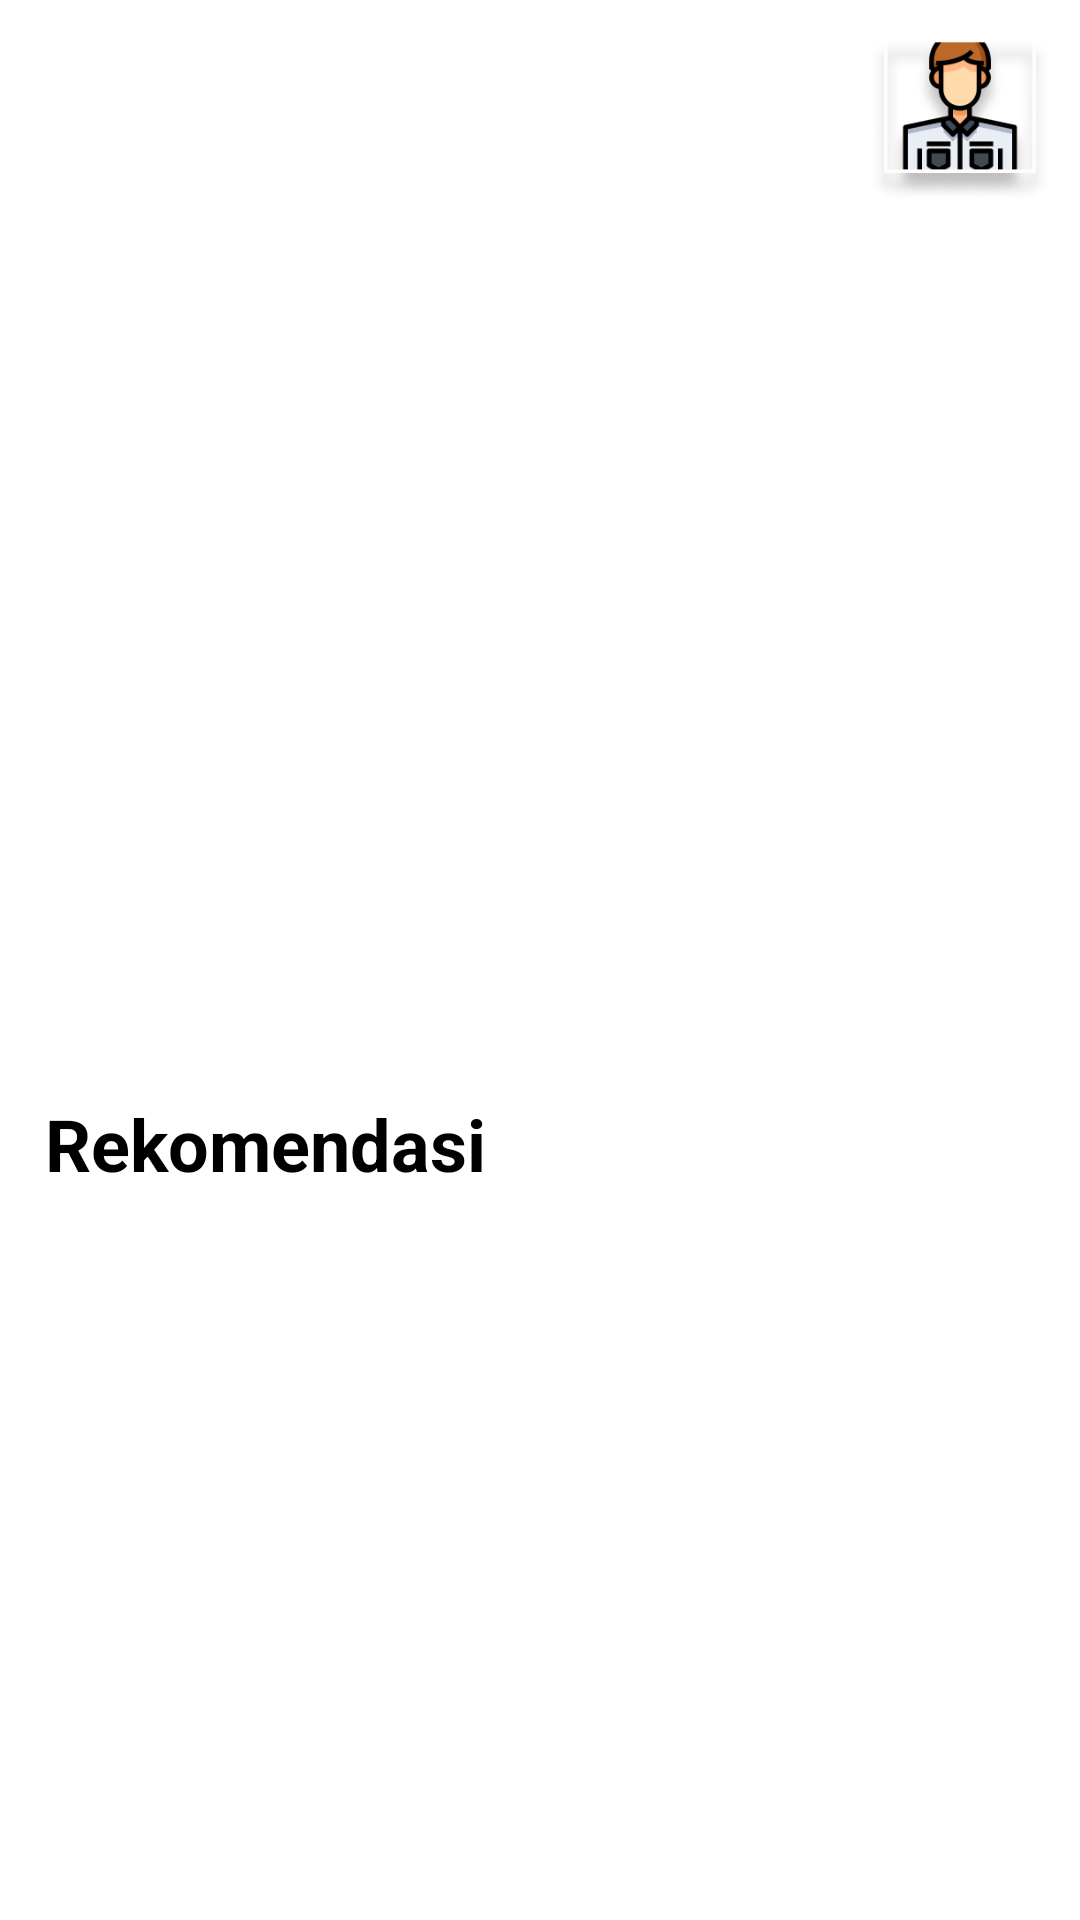

Named icons in this screenshot (1080px×1920px) and their centers, (x=x, y=y):
person: (x=960, y=115)
